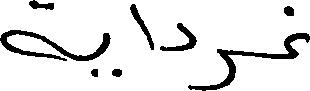X: (0, 0, 62, 64), (162, 18, 194, 90), (196, 35, 234, 90), (285, 1, 309, 63), (132, 0, 152, 54), (97, 28, 108, 81)
